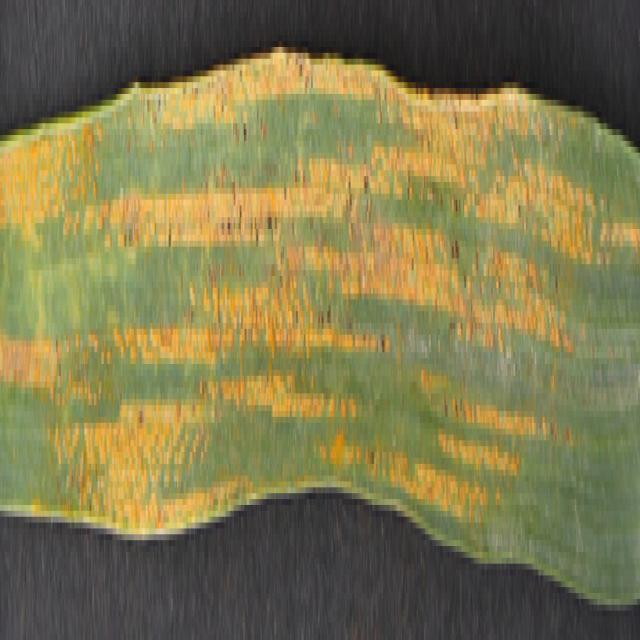leaf rust: (0, 29, 612, 599)
